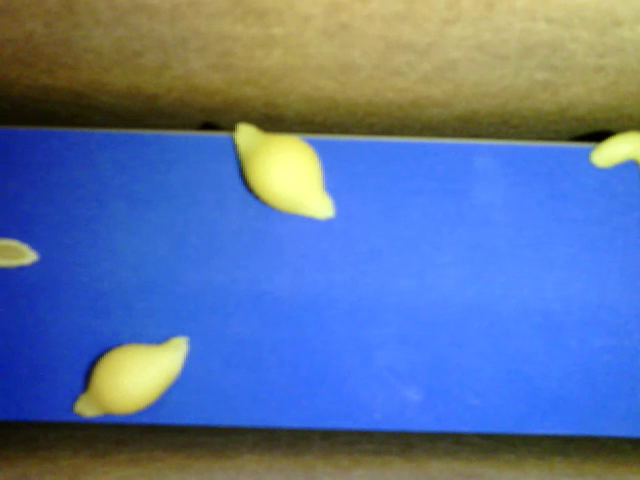elbow: (590, 129, 639, 169)
shell: (233, 122, 337, 219), (73, 335, 190, 417)
